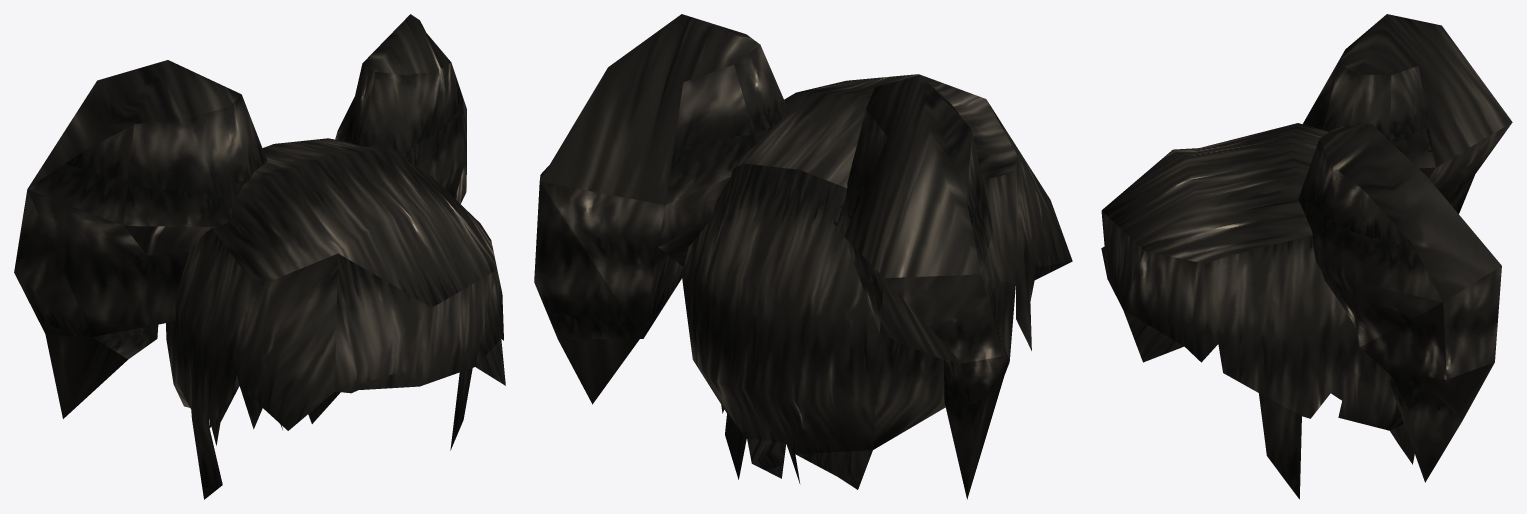
File: hair woman 2.FBX
3 views of the same model, side by side, from view 1: azimuth 30°, elevation 25°; view 2: azimuth 150°, elevation 25°; view 3: azimuth 270°, elevation 25° (orthographic). The views are drawn at different scales.
Parts seen in each view (by area): view 1: Hair woman 2; view 2: Hair woman 2; view 3: Hair woman 2.
Boxes of the visible parts, x1,y1,x2,y2 form: Hair woman 2: (14, 14, 505, 499); Hair woman 2: (534, 14, 1072, 499); Hair woman 2: (1101, 14, 1512, 499).
Size of the model in its own units: 64.53 by 56.99 by 55.82.
